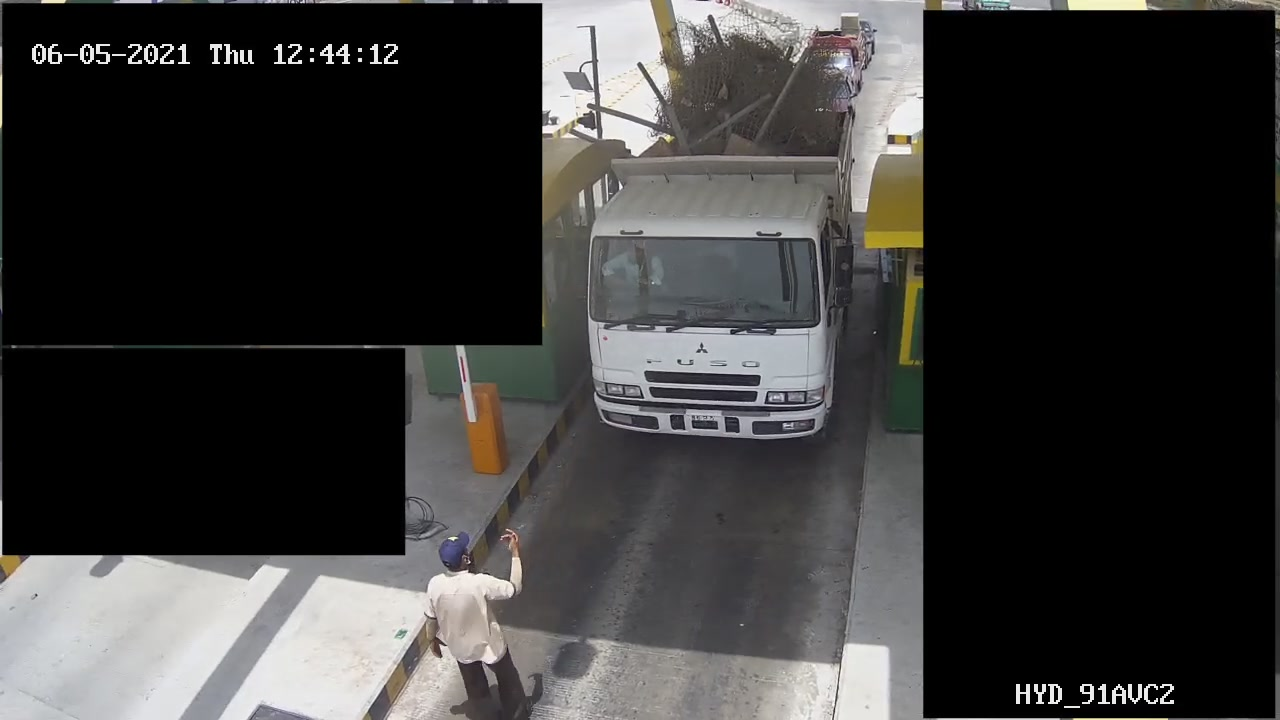F5: (586, 11, 886, 457)
